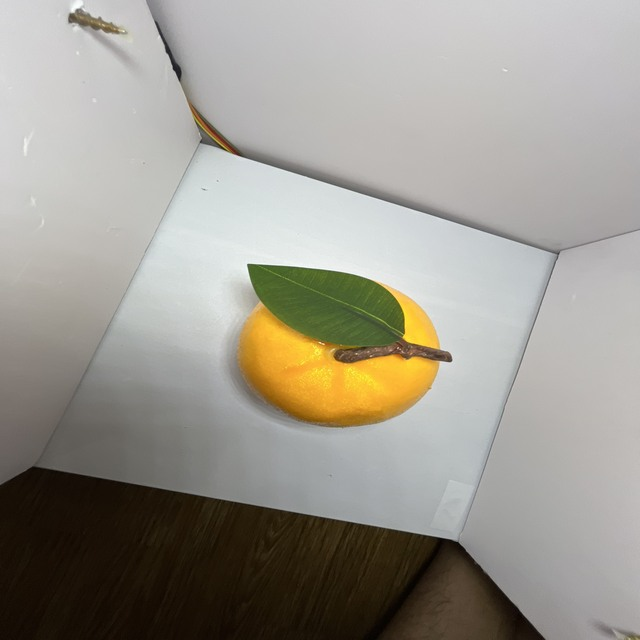Cam vang: (239, 270, 443, 430)
